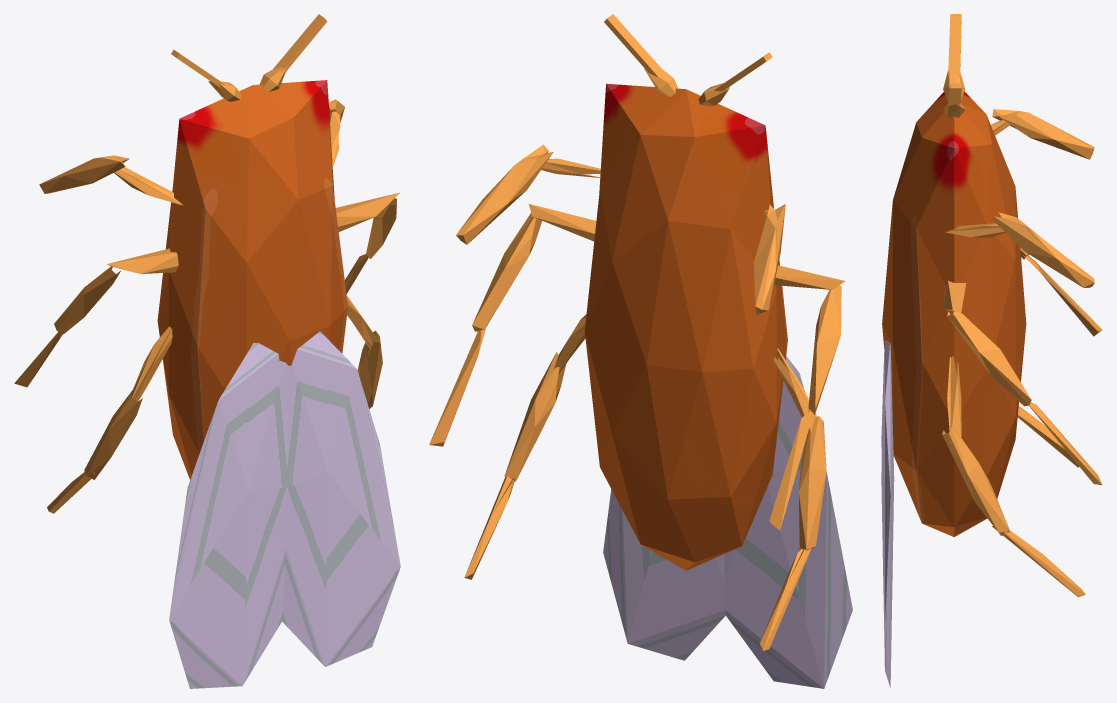
The model's file is fruit_fly.glb.
3 renders of one model, left to right at view 1: azimuth 30°, elevation 25°; view 2: azimuth 150°, elevation 25°; view 3: azimuth 270°, elevation 25°, orthographic. The views are drawn at different scales.
Parts seen in each view (by area): view 1: wings, body, legs, legs.001, legs.002, eyes; view 2: body, wings, legs, legs.001, legs.002, eyes; view 3: body, legs.001, legs.002, legs, wings, eyes.
Part boxes in pixels (bbox=[...]): wings: bbox=[169, 331, 400, 688]; body: bbox=[157, 80, 347, 479]; legs: bbox=[14, 192, 400, 387]; legs.001: bbox=[47, 296, 382, 513]; legs.002: bbox=[39, 99, 344, 205]; eyes: bbox=[171, 14, 327, 101]; body: bbox=[584, 83, 787, 570]; wings: bbox=[603, 356, 852, 688]; legs: bbox=[429, 204, 845, 530]; legs.001: bbox=[464, 314, 826, 651]; legs.002: bbox=[456, 144, 785, 315]; eyes: bbox=[604, 14, 772, 106]; body: bbox=[882, 91, 1026, 536]; legs.001: bbox=[942, 356, 1085, 597]; legs.002: bbox=[945, 109, 1094, 287]; legs: bbox=[943, 247, 1102, 485]; wings: bbox=[881, 340, 894, 687]; eyes: bbox=[943, 14, 965, 117].
Bounding box in the file's own units: 2.25 × 4.06 × 1.35.
Materials: 3 (2 with a texture image).
